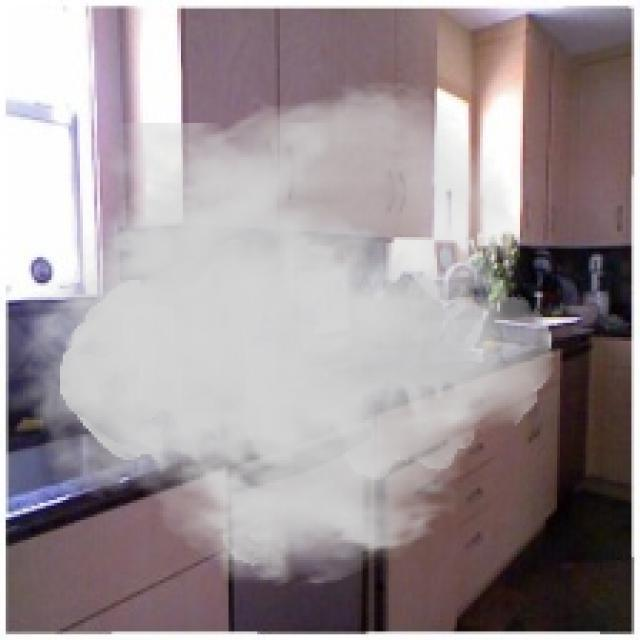Smoke: (2, 77, 554, 592)
